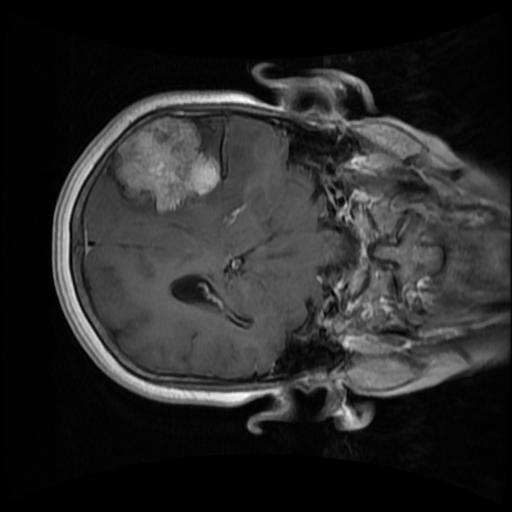meningioma: (113, 115, 221, 213)
